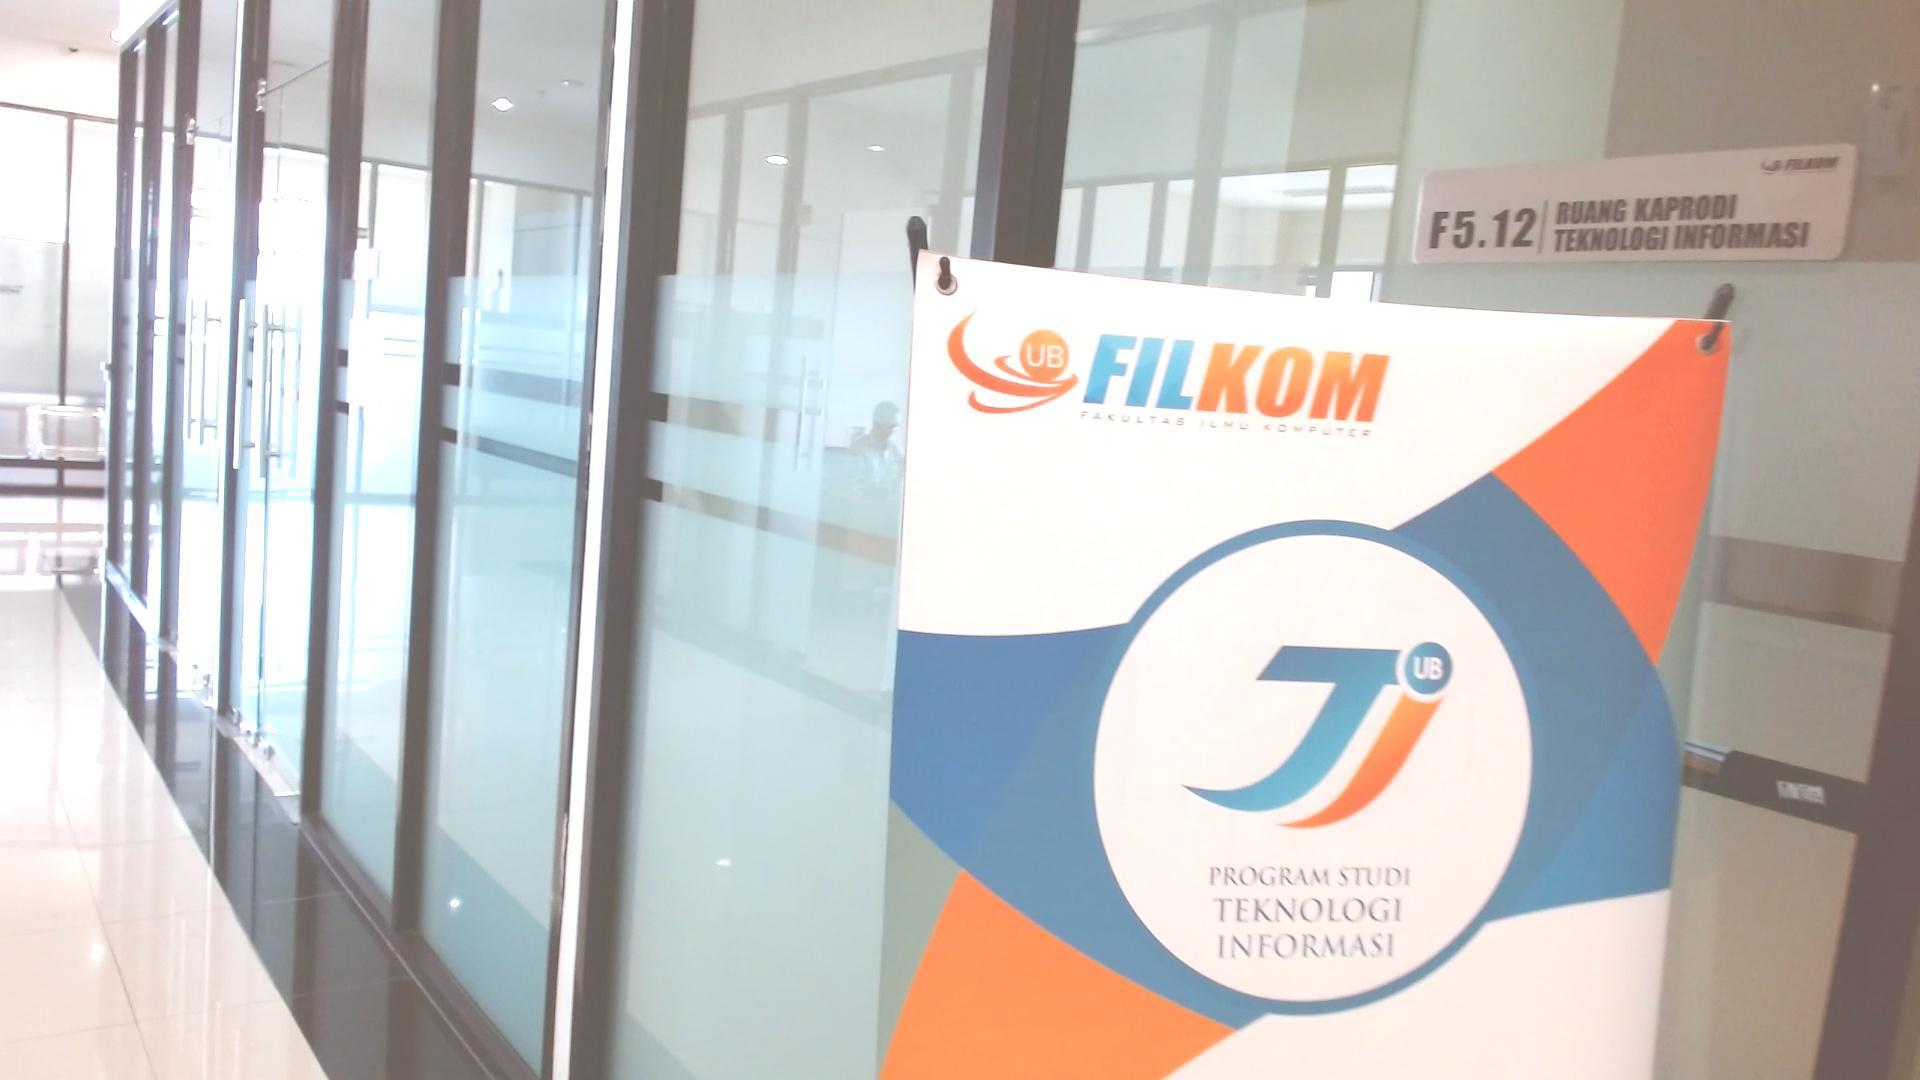plate: (1414, 144, 1858, 265)
